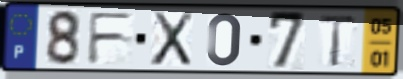0: (205, 11, 243, 69)
7: (267, 9, 309, 72)
8: (44, 8, 84, 68)
F: (85, 10, 137, 66)
T: (316, 14, 360, 70)
X: (148, 10, 196, 69)
